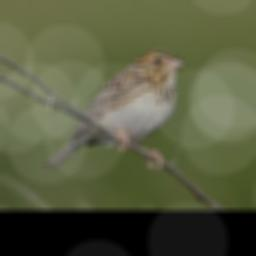Sparrow: (41, 47, 184, 168)
